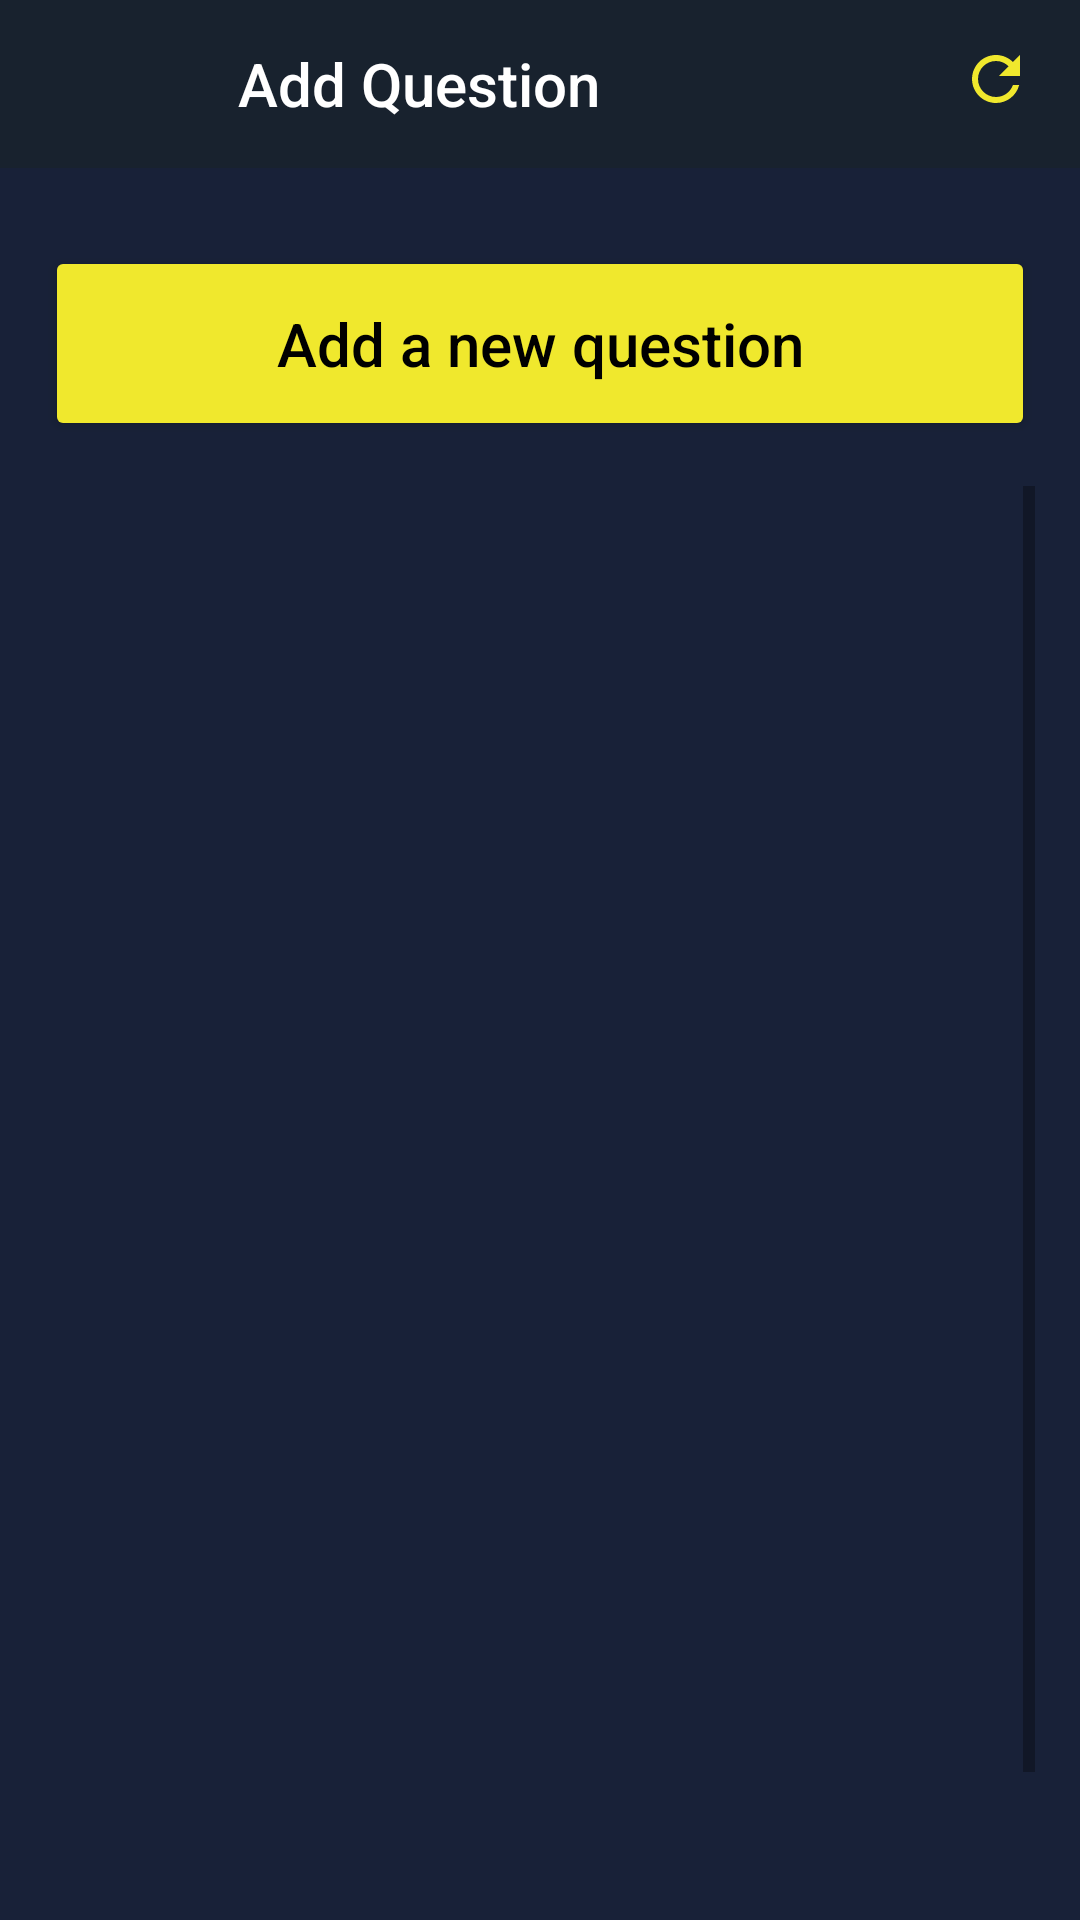

Screen size 1080w x 1920h. Icon name, then its center in pixels as [x,y]:
refresh: [996,79]
